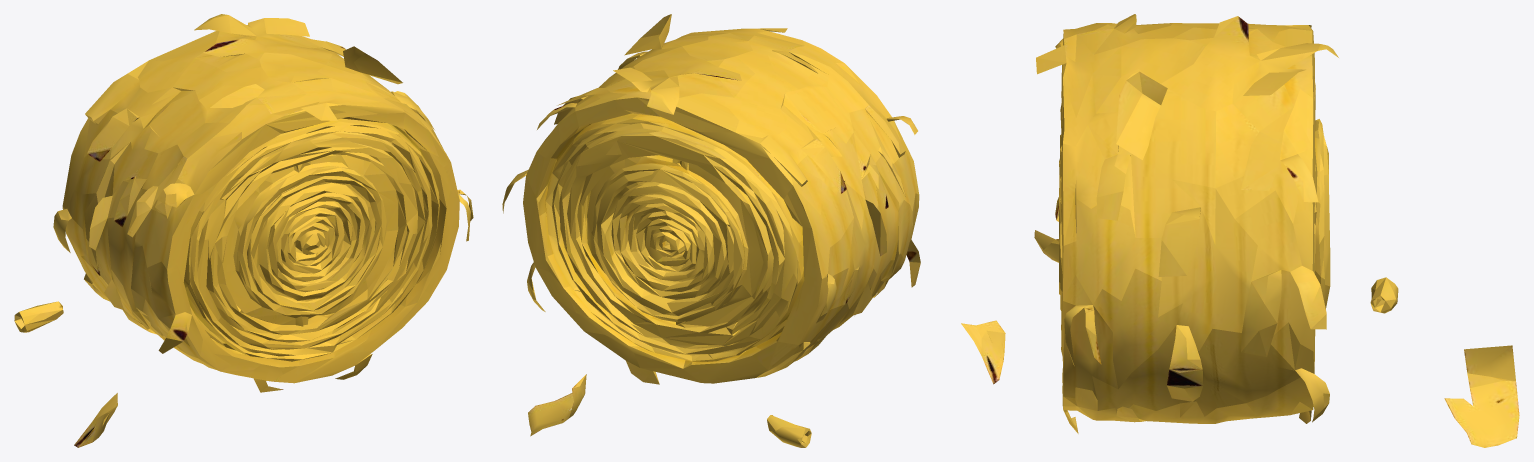
Rendered from haybale.glb.
3 renders of one model, left to right at view 1: azimuth 30°, elevation 25°; view 2: azimuth 150°, elevation 25°; view 3: azimuth 270°, elevation 25°, orthographic. The views are drawn at different scales.
Size of the model in its own units: 1.9 by 1.4 by 1.61.
Materials: 1 (1 with a texture image).
